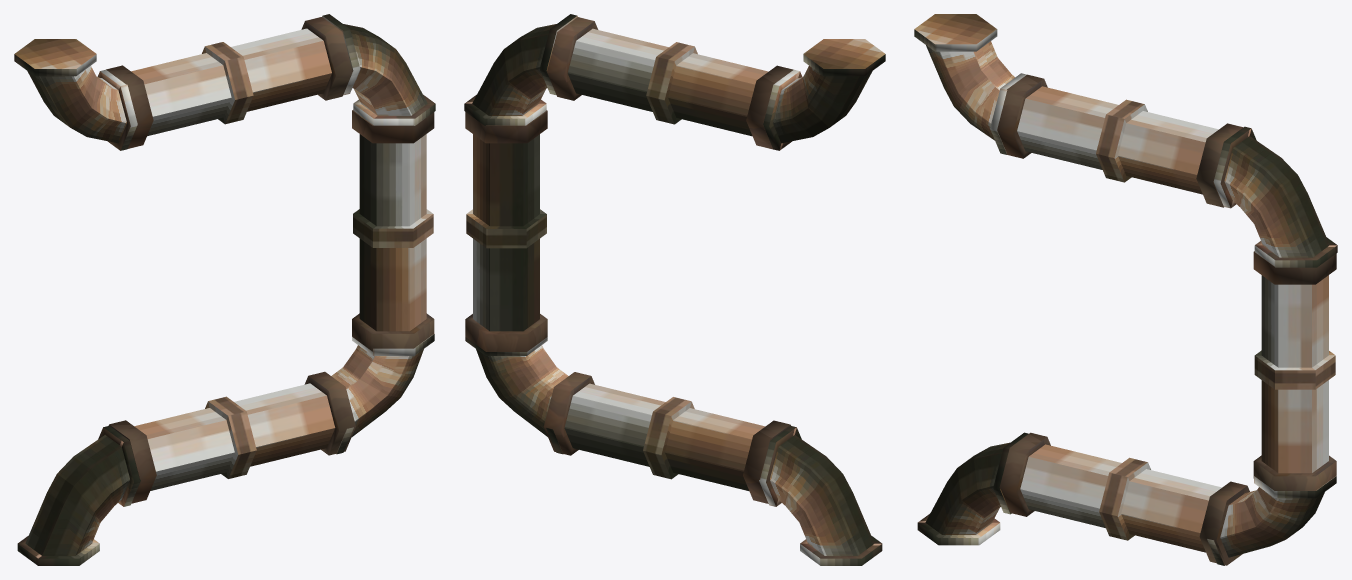
File: pipes_s_1.fbx
3 renders of one model, left to right at view 1: azimuth 30°, elevation 25°; view 2: azimuth 150°, elevation 25°; view 3: azimuth 330°, elevation 25°, orthographic.
Visible parts, largest first — view 1: CurveSmallOpen.014; view 2: CurveSmallOpen.014; view 3: CurveSmallOpen.014.
Part boxes in pixels (x1=…): CurveSmallOpen.014: x1=14, y1=14, x2=435, y2=565; CurveSmallOpen.014: x1=464, y1=14, x2=885, y2=565; CurveSmallOpen.014: x1=914, y1=14, x2=1337, y2=565.
Size of the model in its own units: 346 by 410 by 61.82.
